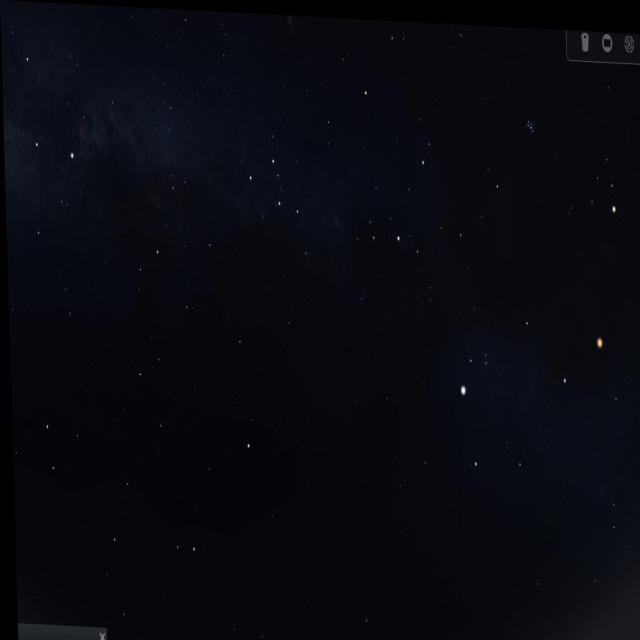cassiopeia: (240, 131, 320, 272)
pleiades: (522, 88, 534, 144)
